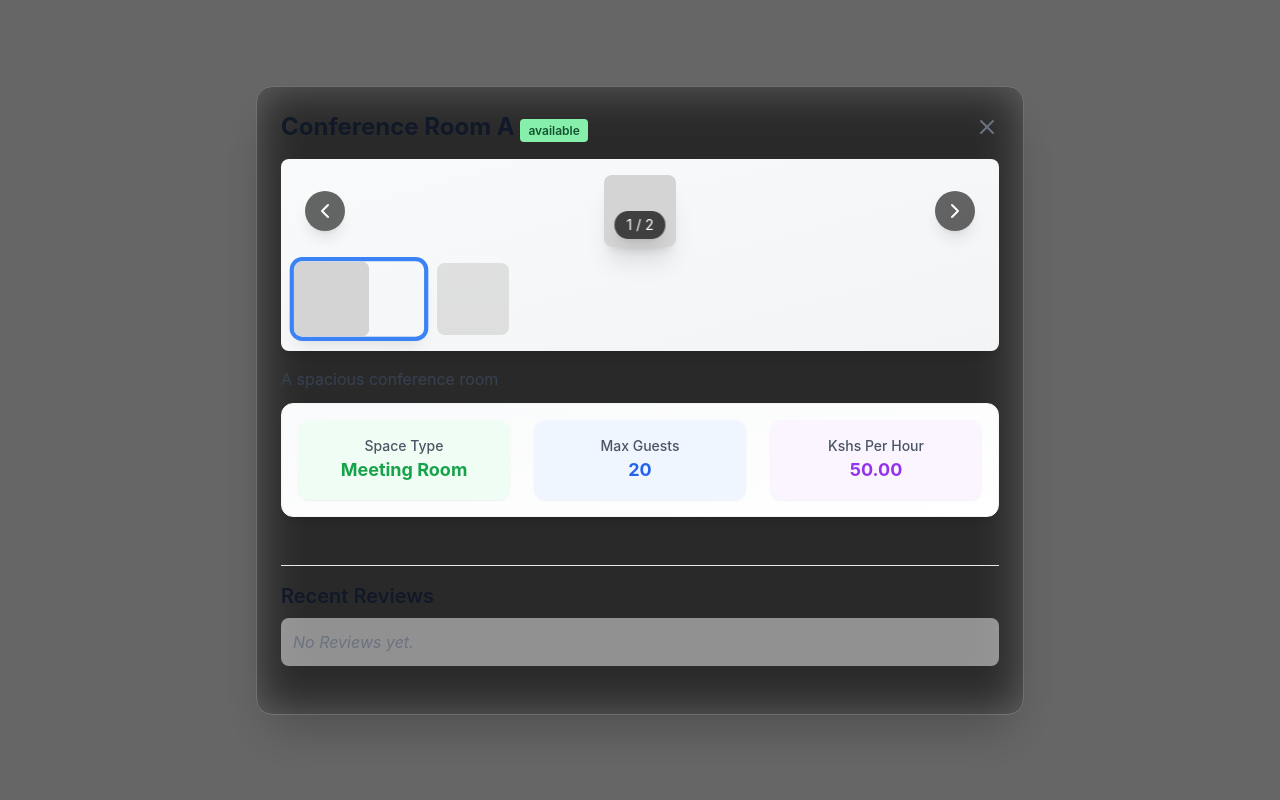
Scenario: SpaceDetails Component › 6. navigates through image gallery correctly
Expected: the text "1 / 2" is shown, [614,210,666,238]
What coordinates should you click on to do the following:
click the 3rd button
I would click on:
 (955, 210)
Its box is [935,190,975,230].
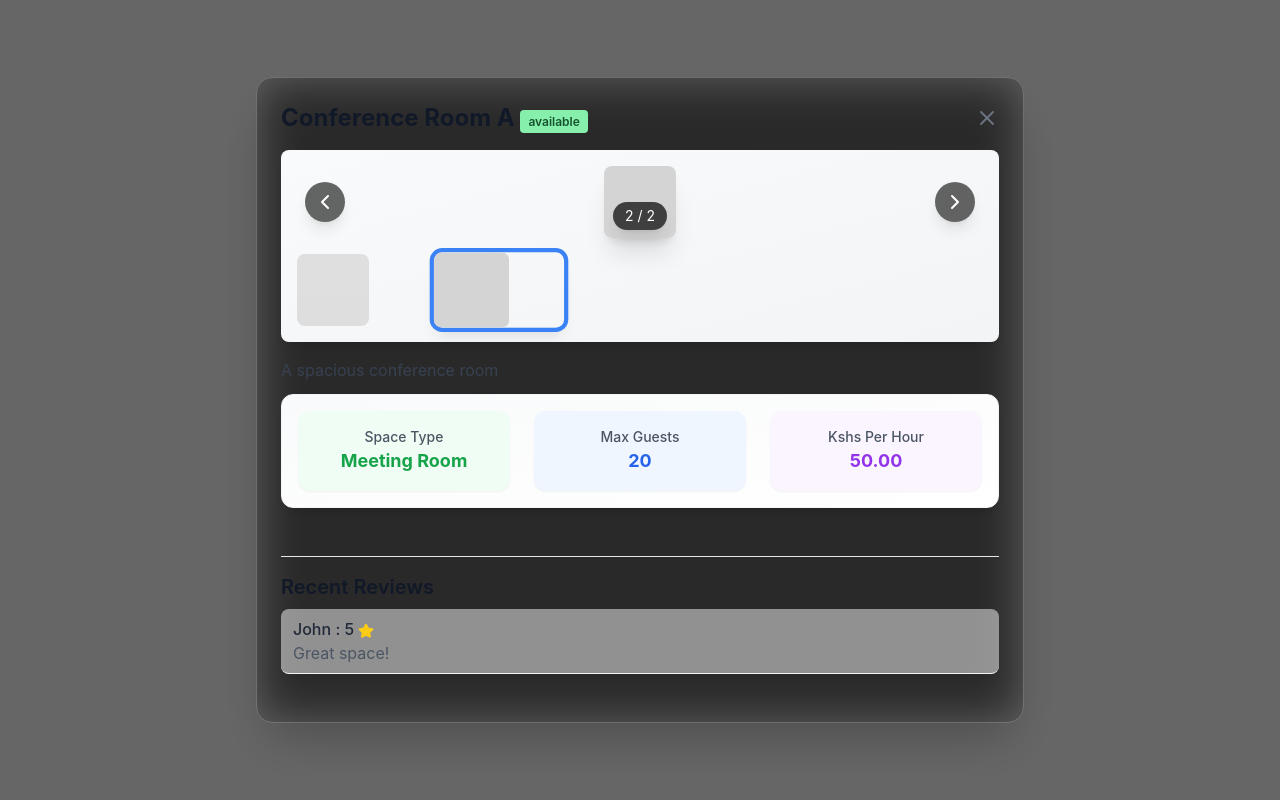
Expected: the text "2 / 2" is shown, [613,202,667,230]
What coordinates should you click on to do the following:
click the 2nd button
I would click on:
 (325, 202)
Its box is [305,182,345,222].
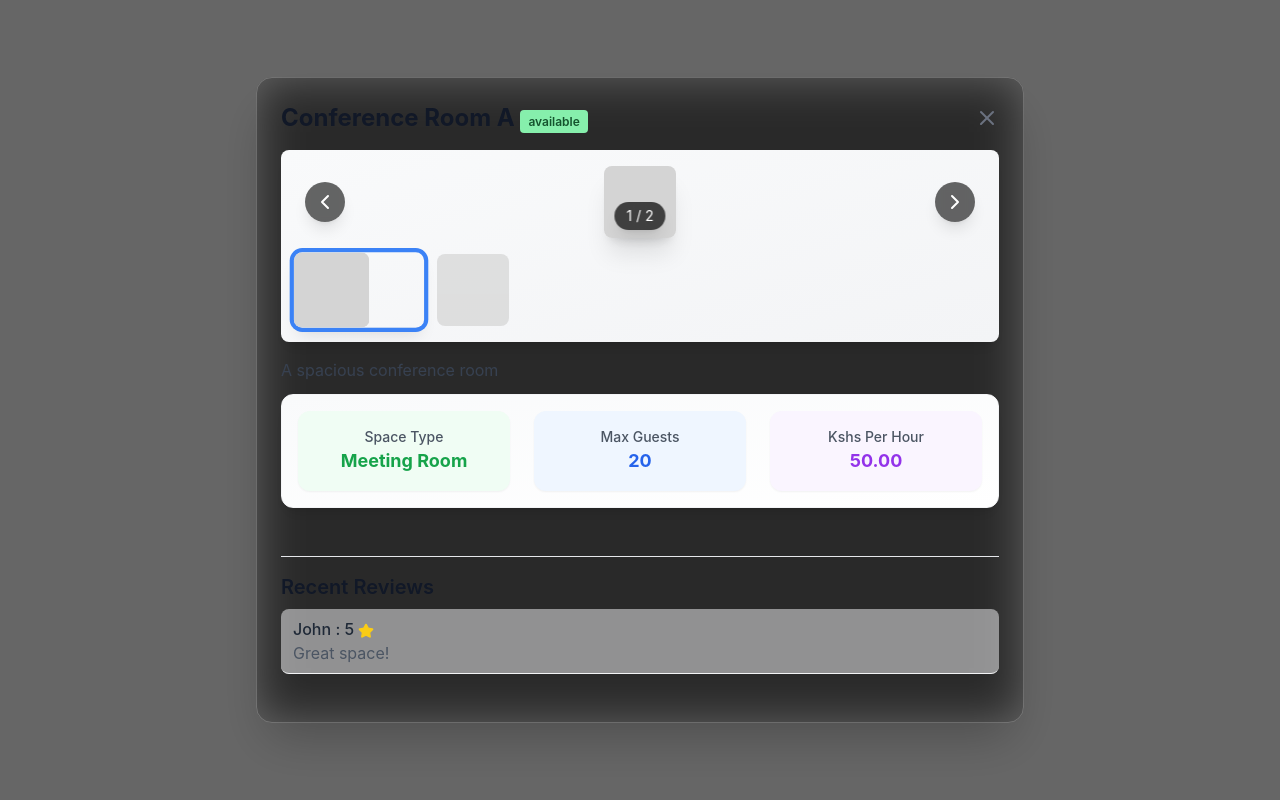
Expected: the text "1 / 2" is shown, [614,202,666,230]
